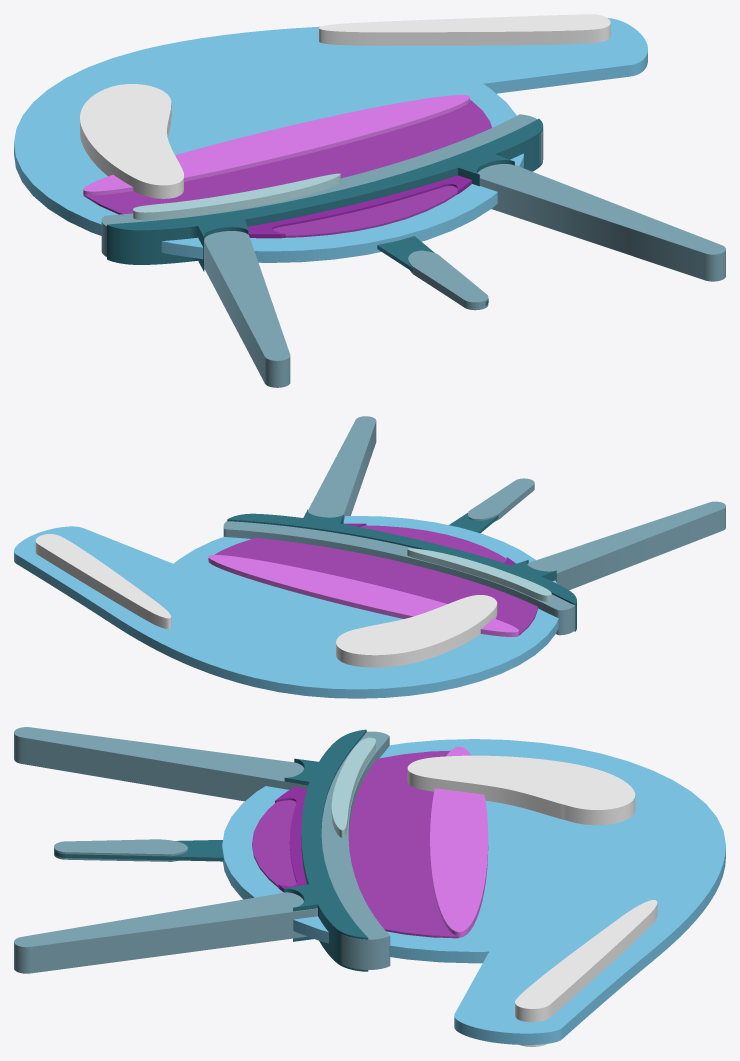
Rendered from emoji_u2697.glb.
3 renders of one model, top to bottom at view 1: azimuth 30°, elevation 25°; view 2: azimuth 150°, elevation 25°; view 3: azimuth 270°, elevation 25°, orthographic. The views are drawn at different scales.
Parts seen in each view (by area): view 1: emoji_u2697; view 2: emoji_u2697; view 3: emoji_u2697.
Boxes of the visible parts, x1=… form: emoji_u2697: x1=14, y1=14, x2=725, y2=387; emoji_u2697: x1=14, y1=416, x2=725, y2=698; emoji_u2697: x1=14, y1=727, x2=725, y2=1046.
Bounding box in the file's own units: 0.0338 × 0.0024 × 0.034.
